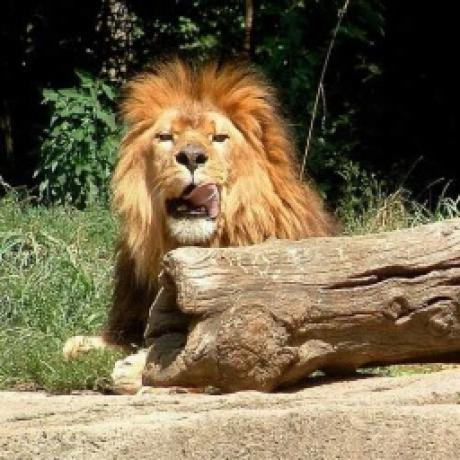Lion: (62, 49, 326, 353)
